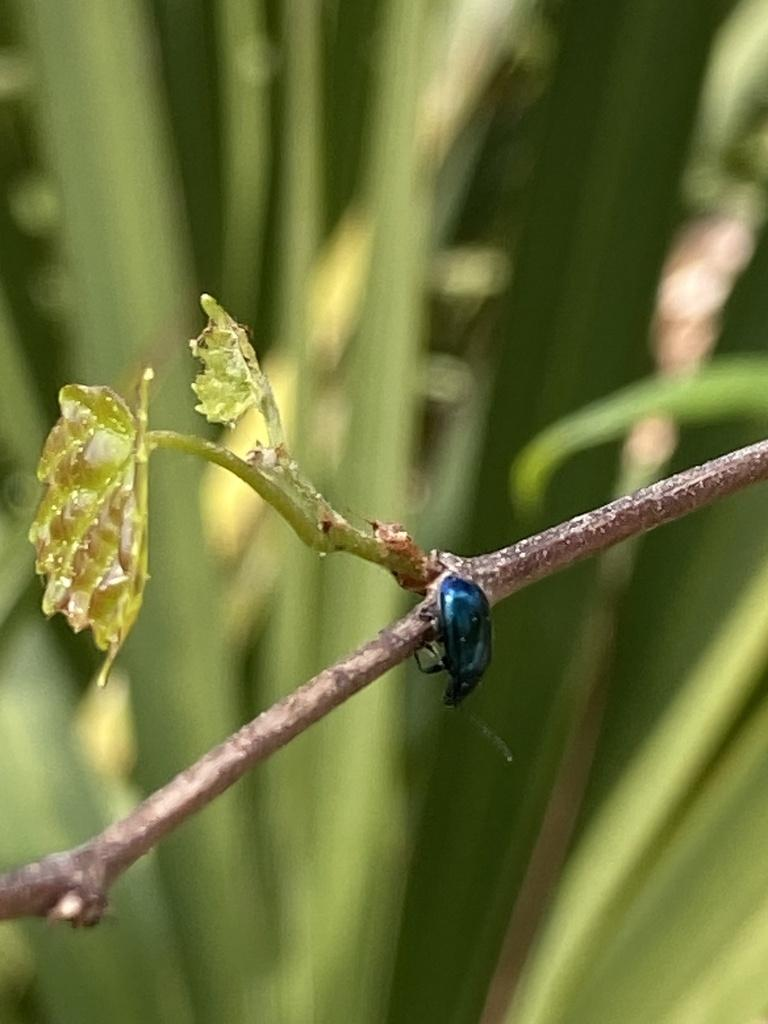flea_beetle: (399, 545, 537, 744)
